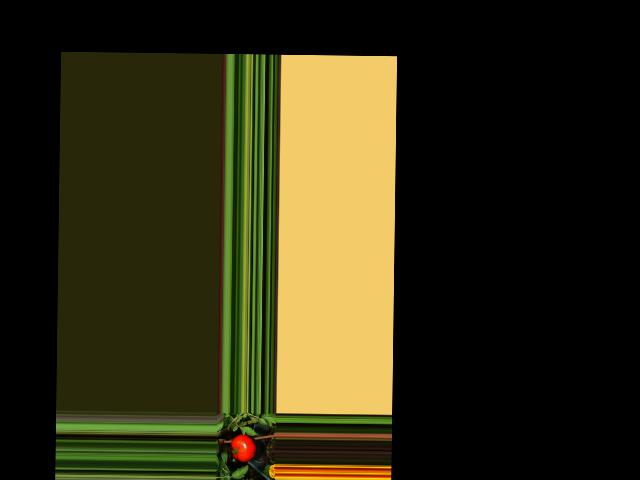tomato: (230, 433, 256, 462)
